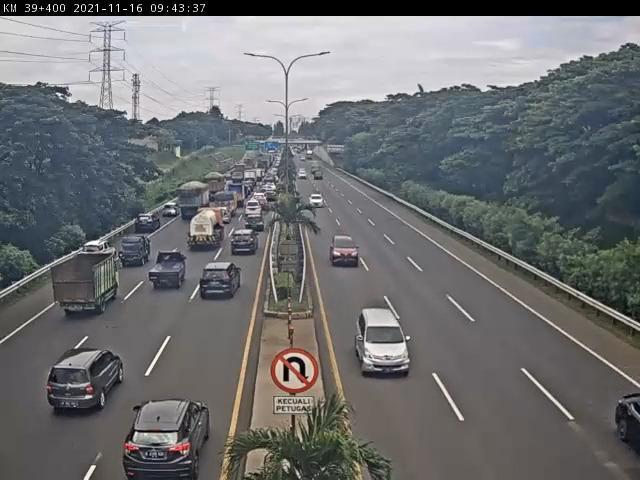car: (120, 389, 219, 480), (45, 348, 127, 416), (354, 309, 413, 378), (607, 368, 640, 467), (113, 229, 158, 274), (323, 226, 365, 272), (201, 263, 247, 304), (149, 251, 189, 291), (79, 226, 117, 264), (129, 203, 165, 240), (228, 224, 264, 260), (239, 195, 269, 223), (243, 210, 269, 238), (306, 191, 332, 216), (161, 195, 183, 221)
truck: (52, 249, 123, 322), (181, 201, 235, 253), (172, 176, 219, 223), (208, 189, 242, 221)
